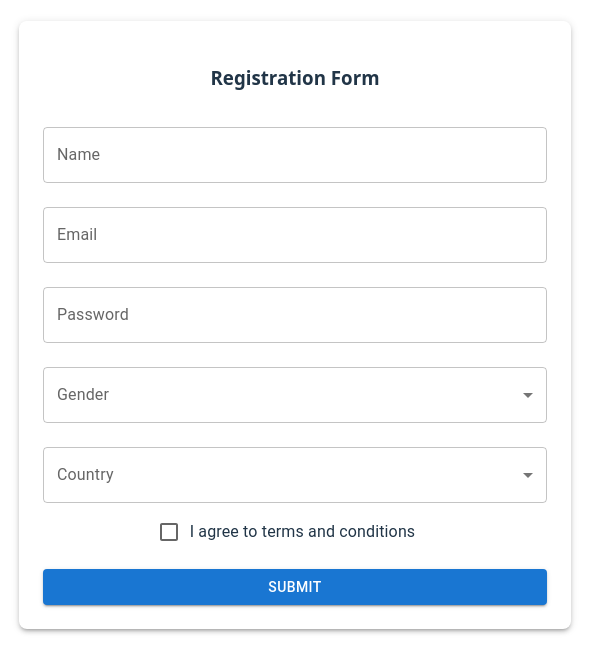
Test case: Registration Form › shows error for short password
The width and height of the screenshot is (591, 665).
In the field labelled "Name": (295, 154) [43, 126, 547, 182], type "Test"
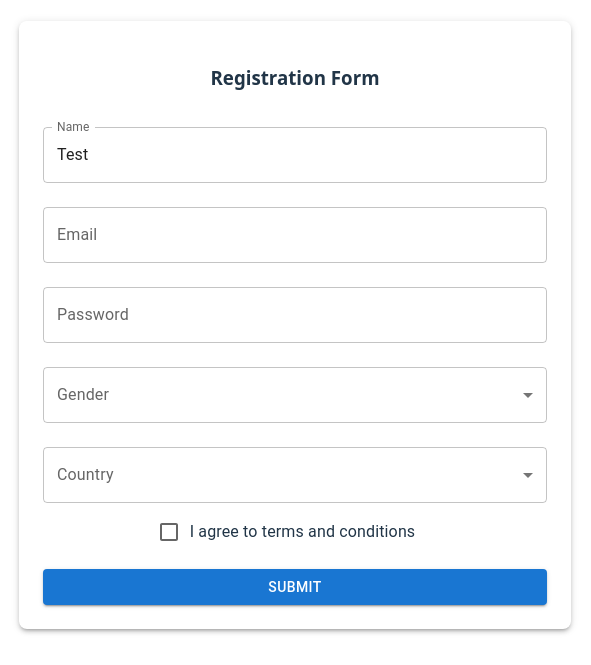
In the field labelled "Email": (295, 234) [43, 206, 547, 262], type "test@test.com"
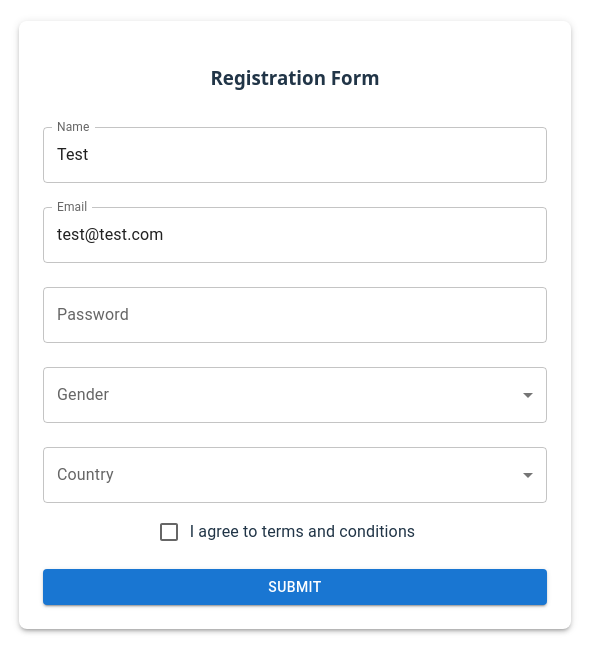
In the password field labelled "Password": (295, 314) [43, 286, 547, 342], type "123"
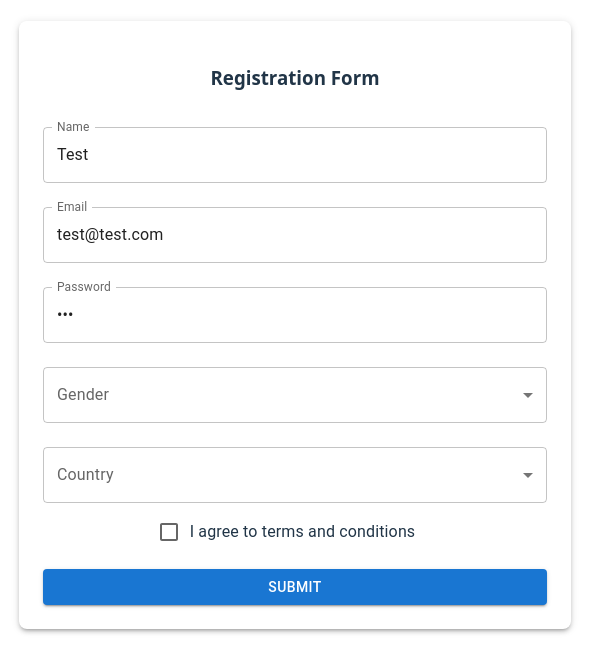
Click the button "Submit": (295, 587) [43, 568, 547, 605]
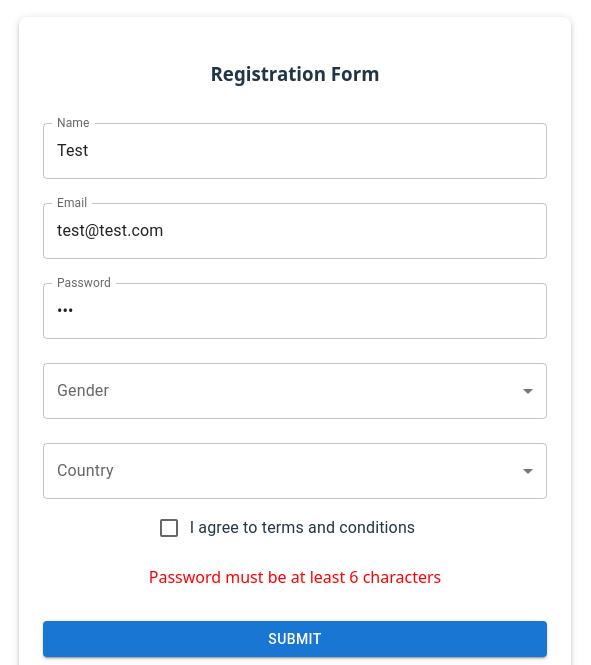
Expected: the text "Password must be at least 6 characters" is shown, [149, 566, 441, 588]
